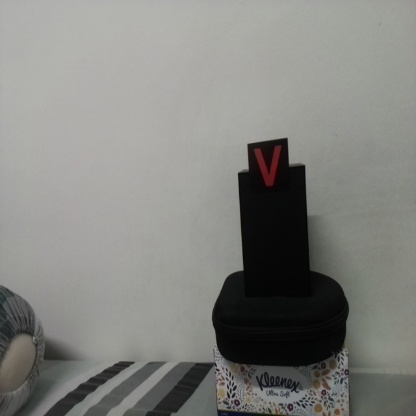id_11: (249, 144, 289, 194)
